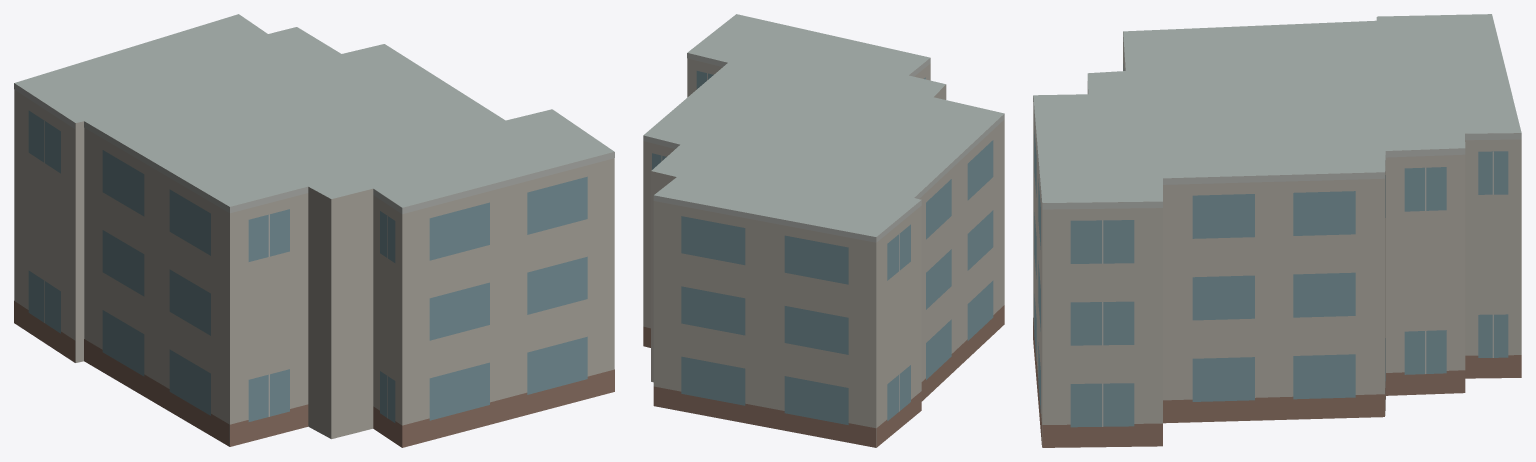
Rendered from survey-upis-33038428.glb.
3 renders of one model, left to right at view 1: azimuth 30°, elevation 25°; view 2: azimuth 150°, elevation 25°; view 3: azimuth 270°, elevation 25°, orthographic. The views are drawn at different scales.
Visible parts, largest first — view 1: survey-upis-33038428.tmp; view 2: survey-upis-33038428.tmp; view 3: survey-upis-33038428.tmp.
Boxes of the visible parts, x1,y1,x2,y2 form: survey-upis-33038428.tmp: (14,14,614,447); survey-upis-33038428.tmp: (643,14,1004,447); survey-upis-33038428.tmp: (1033,14,1521,447).
Bounding box in the file's own units: 15.17 × 9.15 × 16.56.
